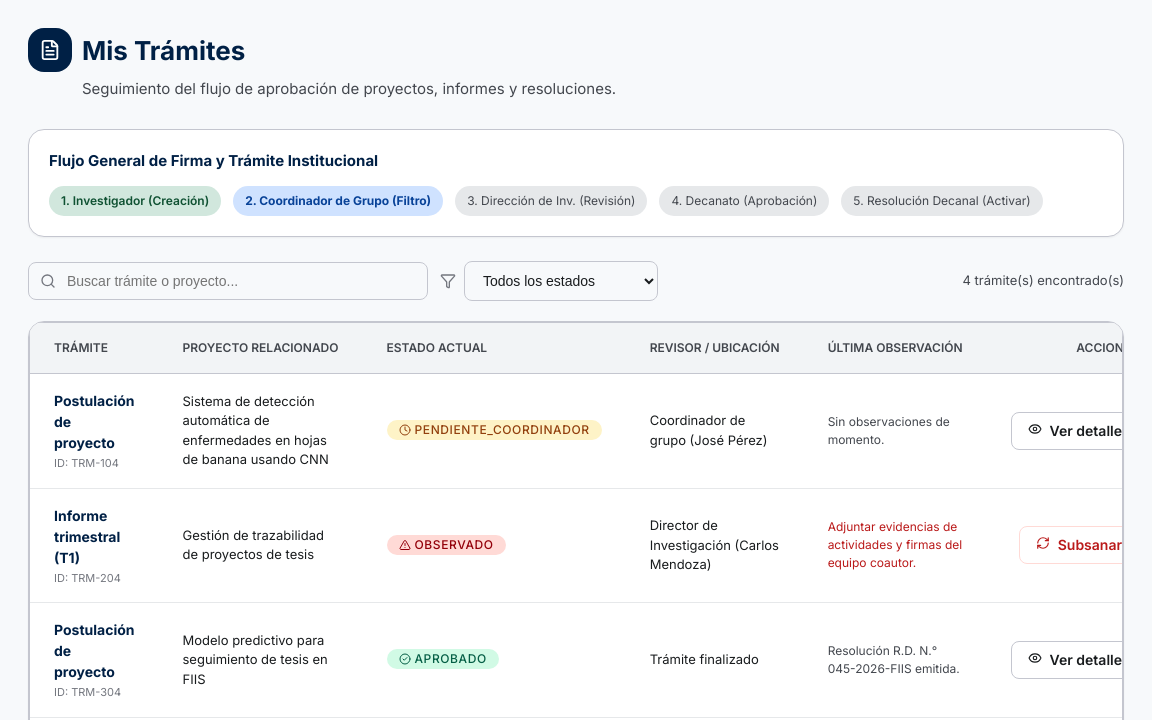
Test: TramitesList › filtra por buscador
The width and height of the screenshot is (1152, 720).
Type "banana" into the field with placeholder "Buscar trámite o proyecto...". click: (228, 281)
box: [28,262,428,300]
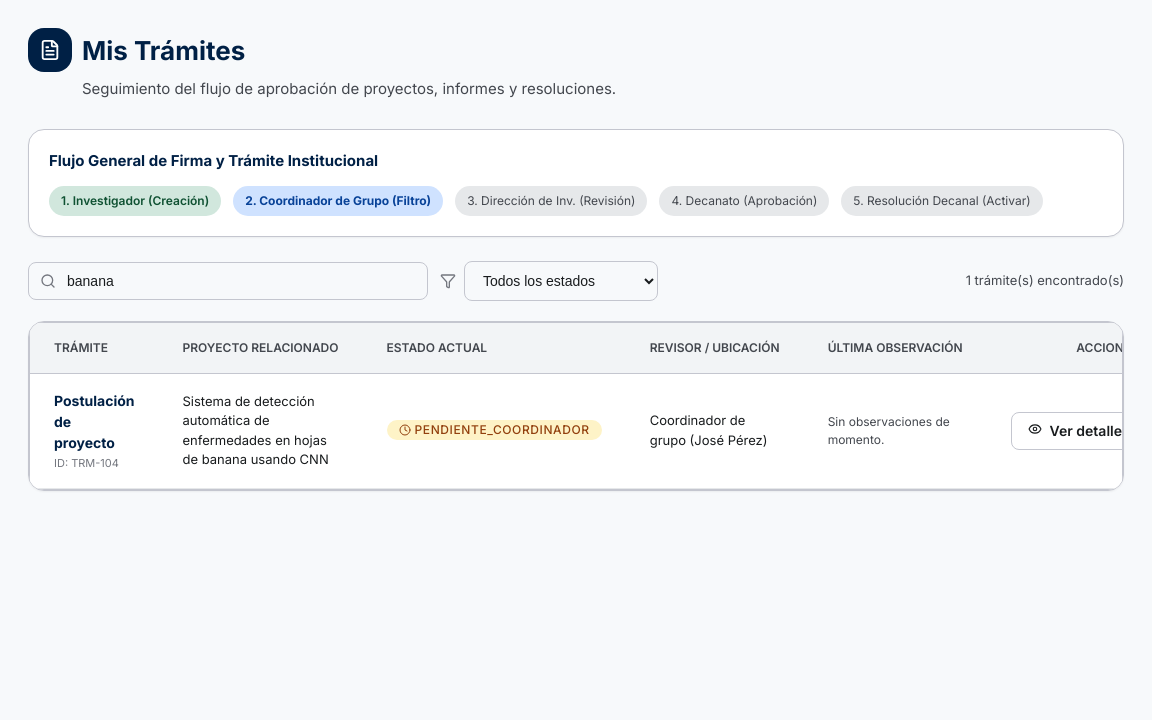
Expected: the text "Sistema de detección automática de enfermedades en hojas de banana" is shown, [182,393,329,467]
Expected: the text "Gestión de trazabilidad de proyectos de tesis" is gone
